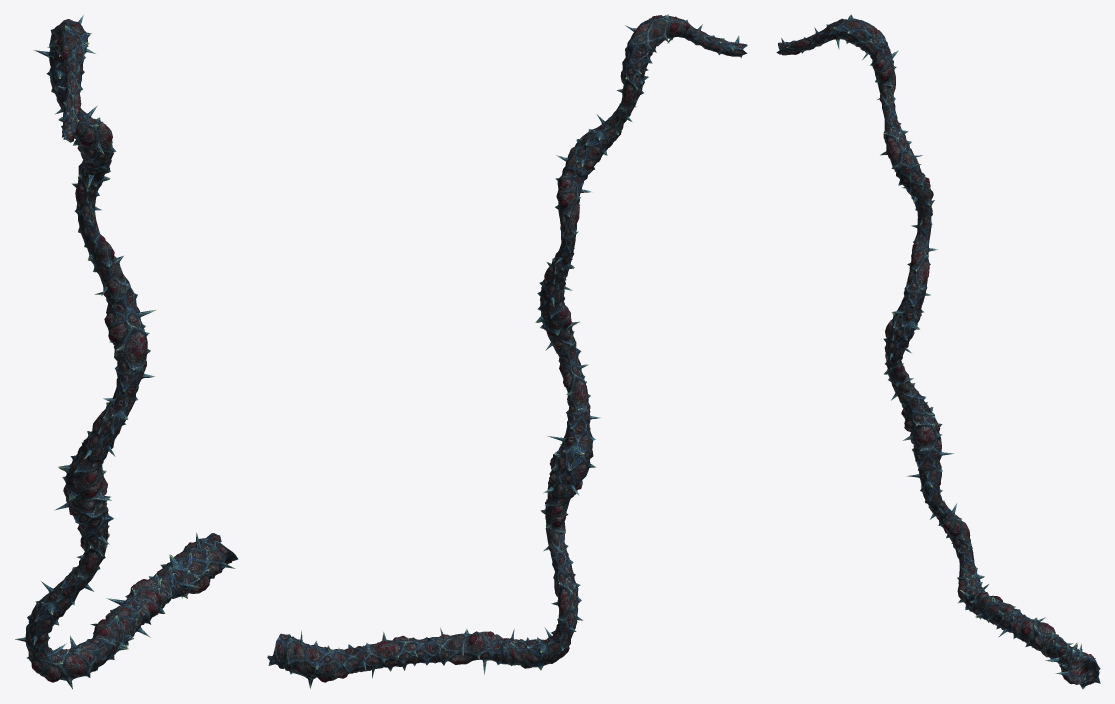
File: backup.fbx
3 renders of one model, left to right at view 1: azimuth 30°, elevation 25°; view 2: azimuth 150°, elevation 25°; view 3: azimuth 270°, elevation 25°, orthographic. The views are drawn at different scales.
Visible parts, largest first — view 1: LODGroup_1_MainMesh_1_SubMesh_1; view 2: LODGroup_1_MainMesh_1_SubMesh_1; view 3: LODGroup_1_MainMesh_1_SubMesh_1.
Part boxes in pixels (<box>): LODGroup_1_MainMesh_1_SubMesh_1: <box>15,15,238,689</box>; LODGroup_1_MainMesh_1_SubMesh_1: <box>267,14,747,689</box>; LODGroup_1_MainMesh_1_SubMesh_1: <box>776,14,1100,689</box>.
Size of the model in its own units: 1119 by 2198 by 1125.
